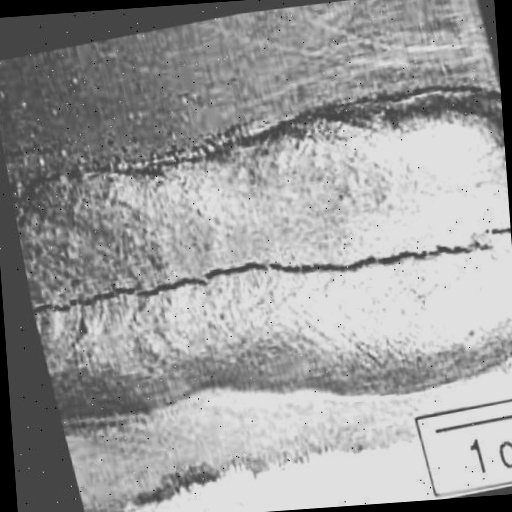crack: (23, 199, 512, 344)
